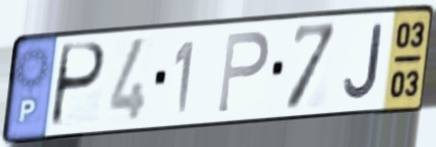1: (172, 37, 195, 115)
4: (106, 34, 151, 126)
7: (285, 19, 339, 113)
J: (341, 21, 384, 102)
P: (46, 40, 108, 131), (215, 29, 272, 116)
